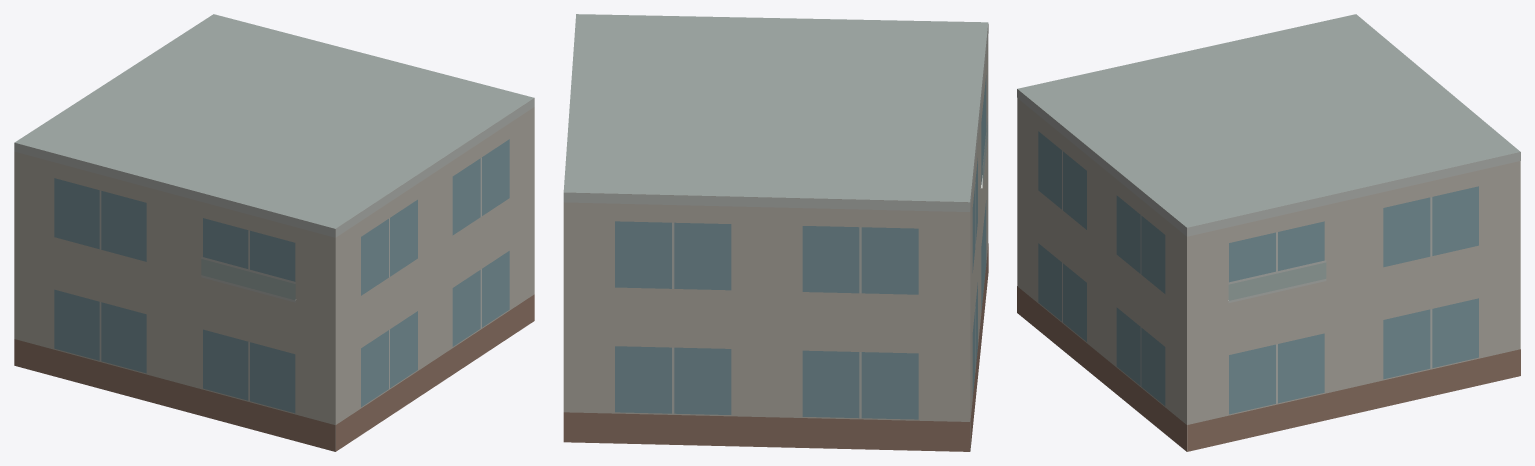
File: survey-upis-32590730.glb
The picture shows the model from 3 angles, left to right: view 1: azimuth 30°, elevation 25°; view 2: azimuth 150°, elevation 25°; view 3: azimuth 270°, elevation 25°; orthographic projection. The views are drawn at different scales.
Parts seen in each view (by area): view 1: survey-upis-32590730.tmp; view 2: survey-upis-32590730.tmp; view 3: survey-upis-32590730.tmp.
Boxes of the visible parts, x1,y1,x2,y2 form: survey-upis-32590730.tmp: (14,14,534,451); survey-upis-32590730.tmp: (563,14,988,451); survey-upis-32590730.tmp: (1017,14,1520,451).
Size of the model in its own units: 12.49 by 6.1 by 12.44.
